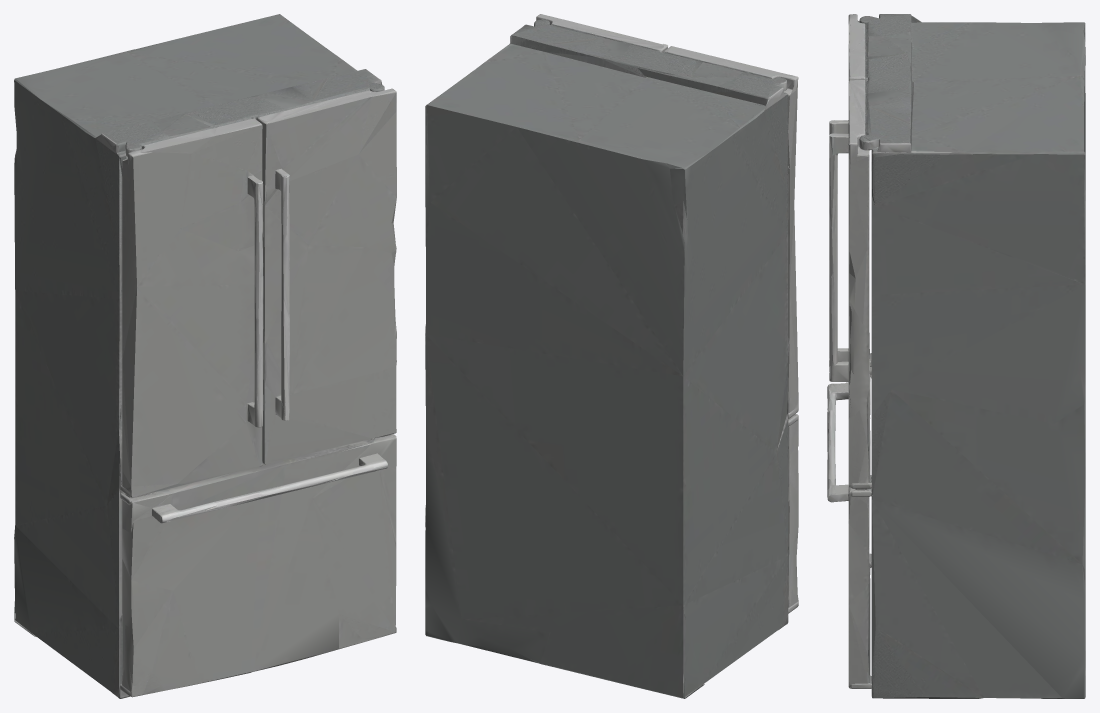
The model's file is fridge_steel.glb.
The picture shows the model from 3 angles, left to right: view 1: azimuth 30°, elevation 25°; view 2: azimuth 150°, elevation 25°; view 3: azimuth 270°, elevation 25°; orthographic projection. The views are drawn at different scales.
Visible parts, largest first — view 1: 0; view 2: 0; view 3: 0.
Part boxes in pixels (left/top/right/bottom): 0: left=14, top=14, right=396, bottom=698; 0: left=425, top=14, right=798, bottom=698; 0: left=827, top=14, right=1085, bottom=698.
Bounding box in the file's own units: 0.9 × 1.78 × 0.75.
1 material, 1 textured.
